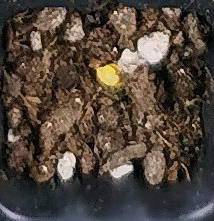pepper seed: (37, 22, 156, 108)
